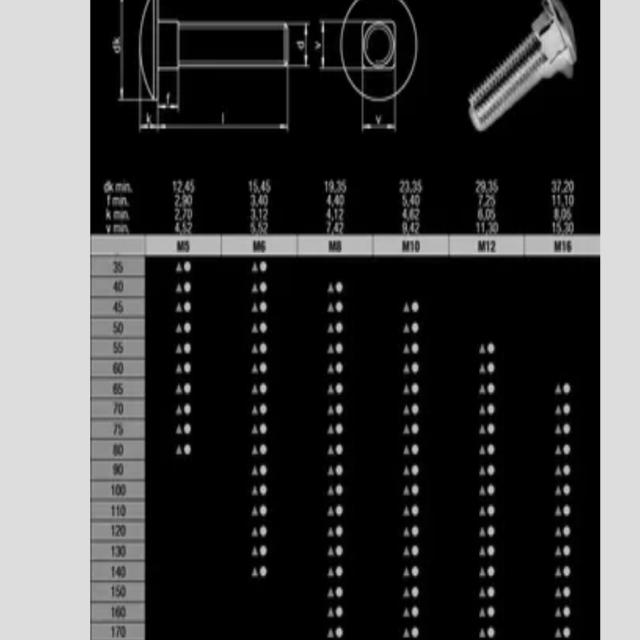marking_line: (181, 69, 288, 131), (118, 0, 138, 102), (360, 101, 397, 131), (318, 21, 340, 71), (289, 21, 310, 68), (139, 110, 180, 134), (159, 71, 180, 112)
